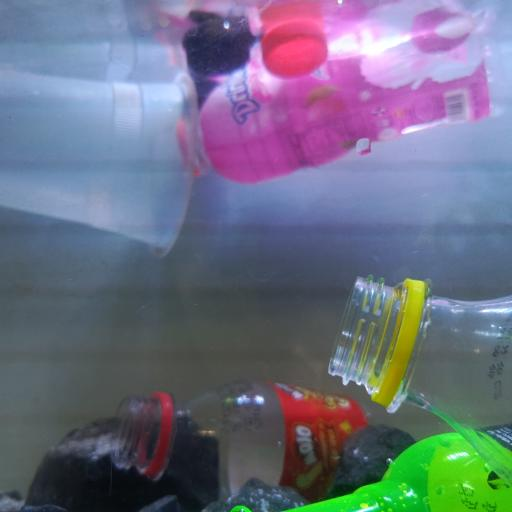bottle_cap: (263, 25, 330, 78), (188, 35, 248, 73)
plastic_bottle: (176, 16, 504, 182), (328, 274, 512, 488), (107, 382, 458, 494), (230, 425, 512, 512)
plastic_cup: (1, 70, 199, 261)
